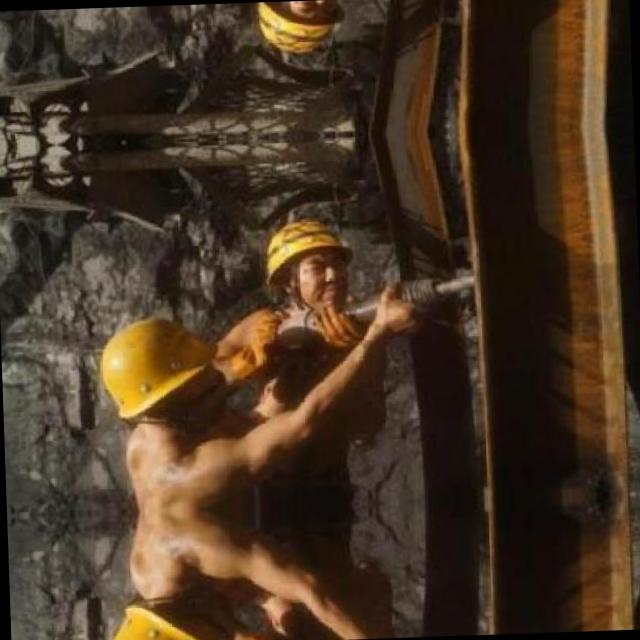helmet: (92, 310, 240, 450), (250, 206, 361, 322), (101, 567, 248, 640), (243, 0, 354, 64)
